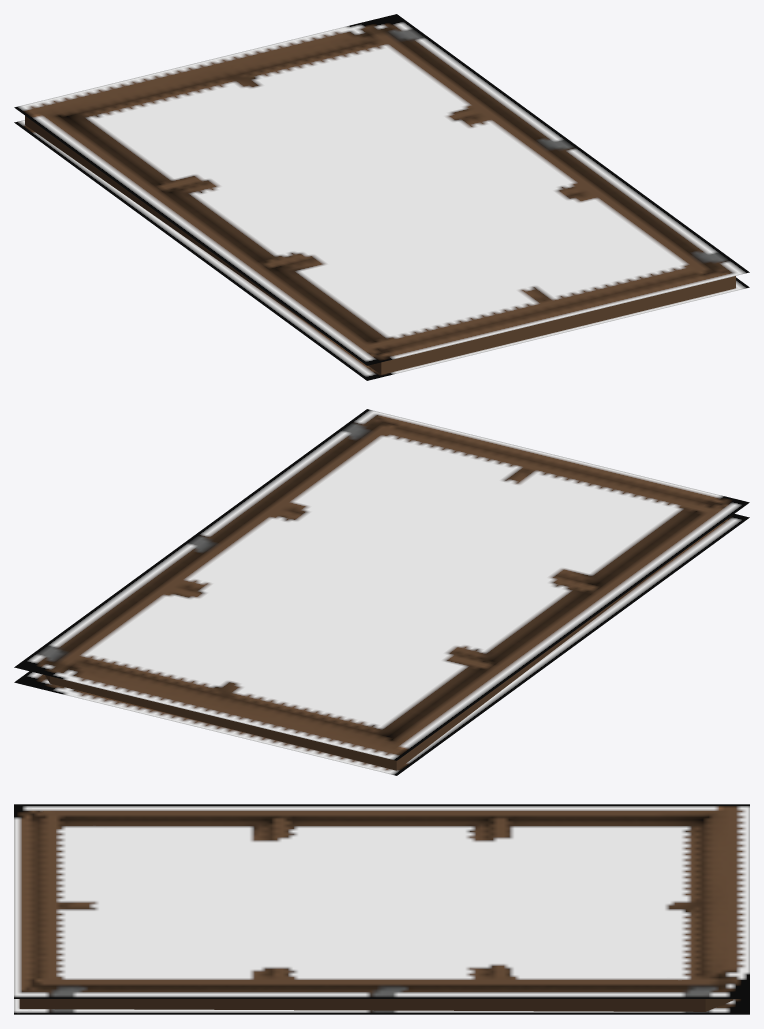
Rendered from pz_native_fixtures_windows_wood_97_frame.obj.
3 renders of one model, top to bottom at view 1: azimuth 30°, elevation 25°; view 2: azimuth 150°, elevation 25°; view 3: azimuth 270°, elevation 25°, orthographic. The views are drawn at different scales.
Visible parts, largest first — view 1: pz_native_fixtures_windows_wood_97_frame; view 2: pz_native_fixtures_windows_wood_97_frame; view 3: pz_native_fixtures_windows_wood_97_frame.
Boxes of the visible parts, left/top/right/bottom form: pz_native_fixtures_windows_wood_97_frame: left=14, top=14, right=749, bottom=380; pz_native_fixtures_windows_wood_97_frame: left=14, top=409, right=749, bottom=775; pz_native_fixtures_windows_wood_97_frame: left=14, top=804, right=749, bottom=1014.
Bounding box in the file's own units: 1.06 × 0.04 × 1.7.
1 material, 1 textured.
